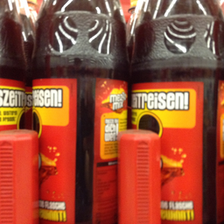soda: (31, 1, 129, 223), (129, 1, 223, 224)
